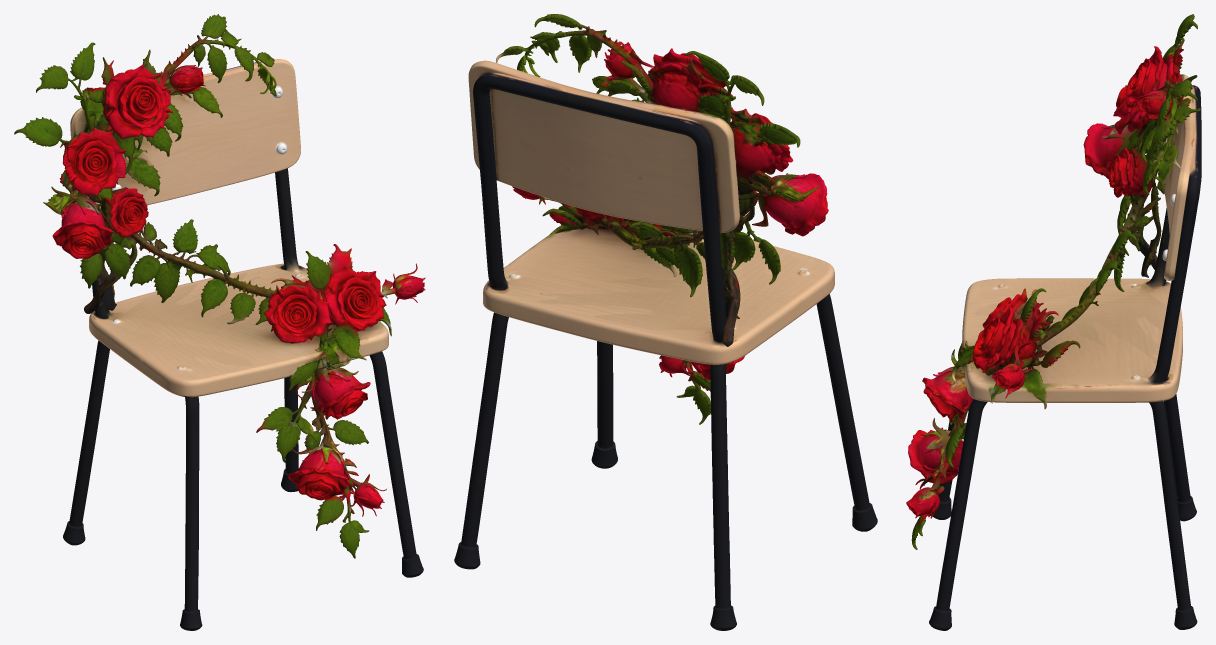
The model's file is rose-chair.glb.
3 renders of one model, left to right at view 1: azimuth 30°, elevation 25°; view 2: azimuth 150°, elevation 25°; view 3: azimuth 270°, elevation 25°, orthographic. The views are drawn at different scales.
Visible parts, largest first — view 1: Chair_and_roses; view 2: Chair_and_roses; view 3: Chair_and_roses.
Boxes of the visible parts, left/top/right/bottom form: Chair_and_roses: left=14, top=14, right=425, bottom=630; Chair_and_roses: left=454, top=14, right=877, bottom=630; Chair_and_roses: left=906, top=14, right=1201, bottom=630.
Bounding box in the file's own units: 0.6851 × 0.9856 × 0.5205.
1 material, 1 textured.
